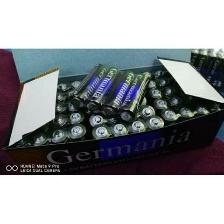battery: (68, 60, 109, 112), (100, 69, 138, 120), (82, 65, 121, 114), (117, 71, 151, 125), (66, 125, 92, 171), (188, 101, 209, 156), (64, 110, 90, 152), (47, 112, 70, 159), (49, 128, 73, 169), (109, 123, 131, 167), (46, 101, 72, 138), (8, 135, 32, 174), (93, 121, 112, 170), (166, 94, 187, 137), (158, 107, 176, 156), (30, 133, 52, 173), (177, 105, 193, 156), (145, 114, 163, 157), (205, 51, 224, 90), (151, 97, 170, 136), (162, 85, 178, 129), (147, 85, 165, 123), (50, 91, 69, 127), (194, 50, 210, 85), (69, 77, 84, 114), (153, 67, 167, 106), (55, 80, 68, 122), (128, 119, 144, 152), (158, 75, 173, 106)
